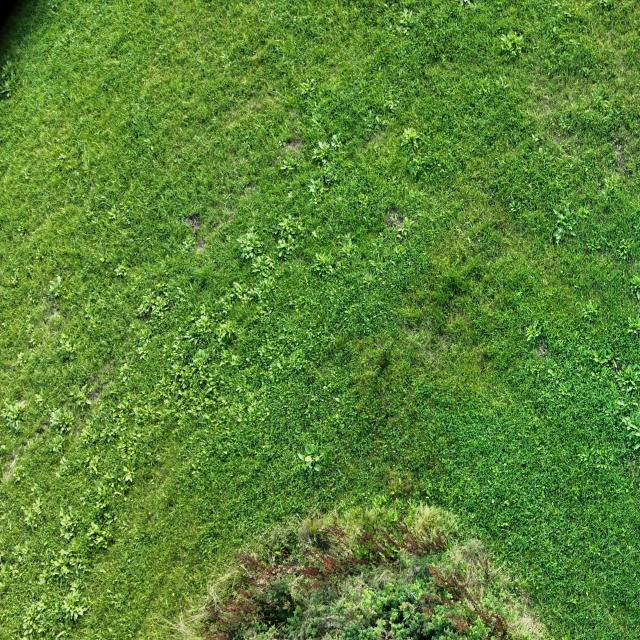rumex: (484, 392, 624, 546), (242, 302, 318, 401), (171, 384, 247, 479), (97, 409, 148, 482), (544, 6, 596, 68), (258, 578, 300, 626), (397, 125, 432, 179), (245, 239, 282, 282), (19, 598, 53, 637), (189, 308, 221, 349), (57, 584, 88, 626), (279, 602, 315, 638), (228, 282, 260, 322), (551, 203, 579, 246), (189, 346, 216, 389), (84, 518, 114, 554), (56, 506, 82, 546), (274, 213, 302, 250), (475, 70, 508, 100), (2, 399, 30, 434), (20, 493, 45, 531), (597, 170, 625, 202), (47, 405, 74, 438), (310, 136, 338, 166), (236, 232, 264, 261), (587, 85, 613, 116), (616, 363, 640, 396), (312, 247, 339, 276), (403, 580, 430, 609), (299, 441, 323, 472), (498, 29, 525, 56), (0, 59, 18, 98), (72, 383, 97, 410), (464, 614, 491, 639), (135, 292, 162, 316), (134, 324, 156, 353), (592, 347, 616, 373), (391, 214, 413, 242), (396, 8, 416, 38), (216, 319, 238, 346), (625, 298, 640, 336), (620, 414, 640, 441), (358, 589, 378, 616), (616, 237, 636, 262), (308, 176, 326, 203), (561, 5, 585, 25), (524, 321, 544, 343), (46, 275, 64, 298), (58, 337, 78, 357), (94, 482, 114, 502), (507, 192, 522, 214), (48, 438, 66, 456), (278, 157, 298, 173), (373, 617, 389, 637), (112, 261, 130, 278), (584, 299, 599, 317), (402, 127, 417, 143), (264, 625, 279, 639), (381, 546, 396, 559), (330, 133, 342, 149), (276, 238, 289, 252), (398, 600, 412, 613), (459, 0, 476, 10), (106, 208, 118, 220), (136, 302, 148, 314), (196, 348, 207, 361), (598, 1, 613, 10), (531, 134, 542, 146), (614, 398, 626, 409), (278, 220, 291, 230), (304, 445, 315, 456), (563, 203, 571, 215), (552, 232, 560, 244), (297, 452, 307, 461)
